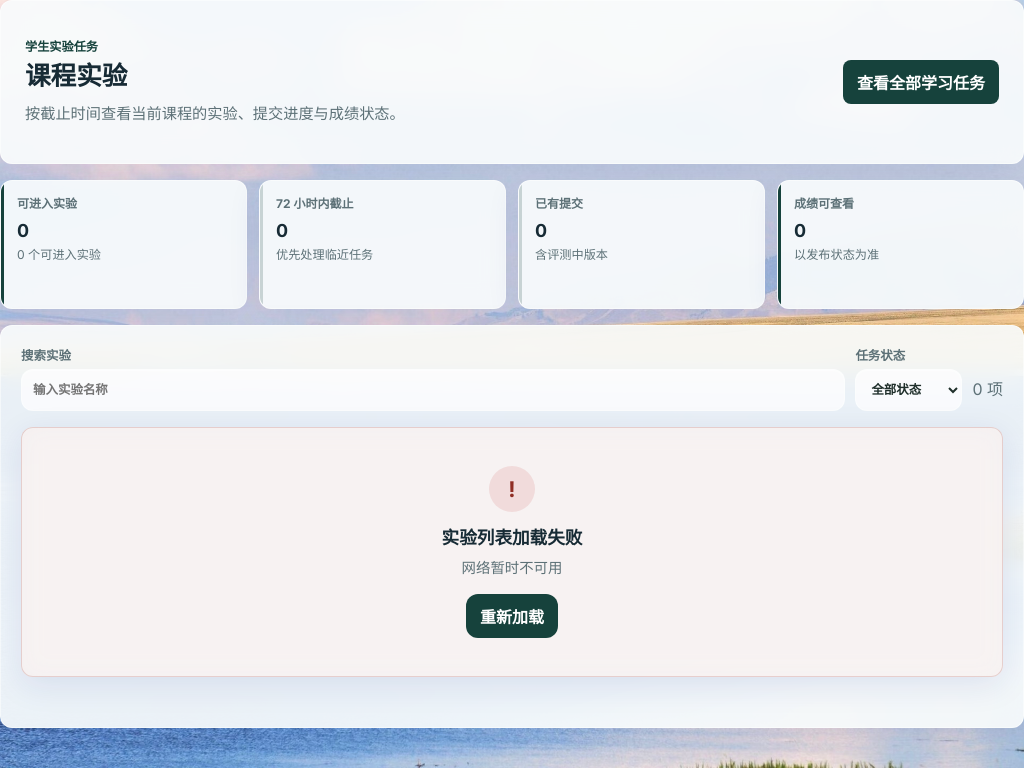
LabStudentListView visual task-list contract › shows a retryable failure state
Step 1. Click the button with test id "retry-lab-list" → coordinates (512, 616), box left=466, top=594, right=558, bottom=638
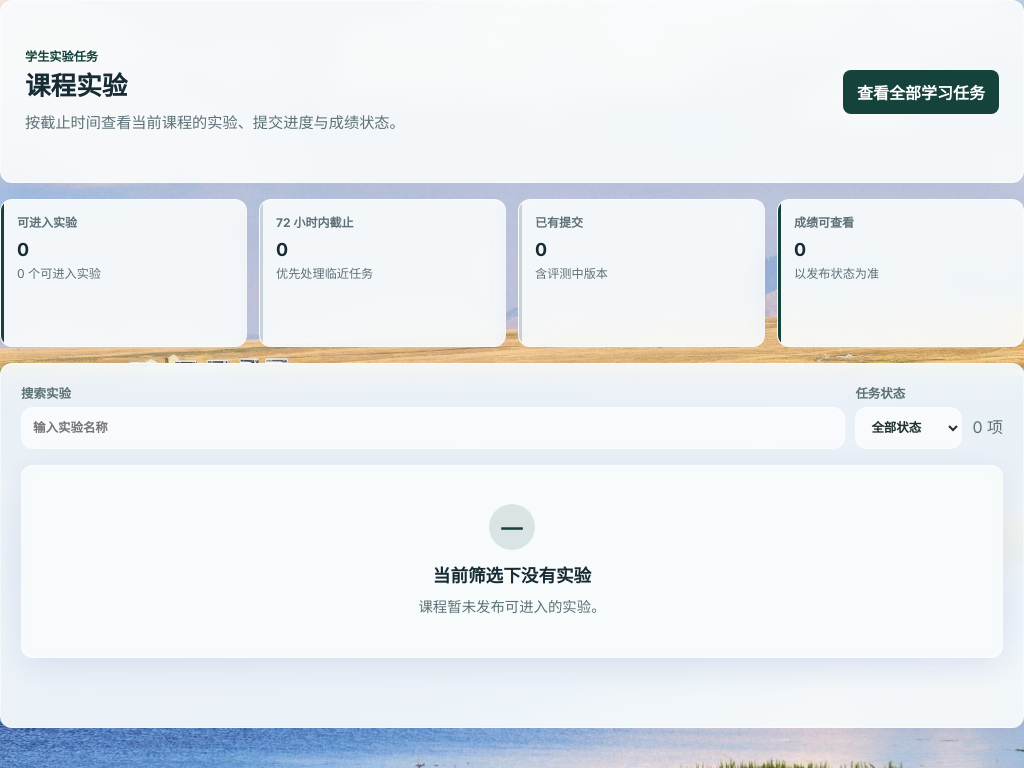
Result: the text "当前筛选下没有实验" is shown at left=433, top=565, right=591, bottom=586
